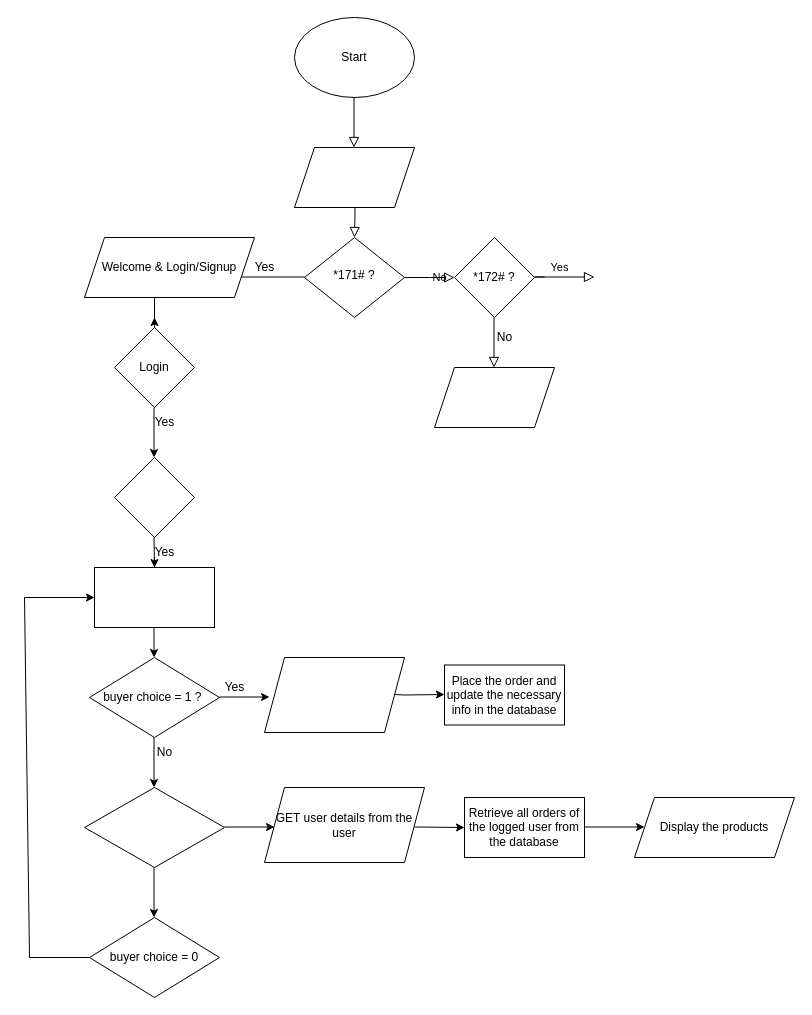
This 812x1015 diagram has some shape labels left out. Each missing label, with the centre of its shape:
buyer choice = 2 ?: point (154, 827)
Enter USSD code: point (354, 177)
Get product and user details: point (334, 694)
Invalid USSD: point (494, 397)
Is Buyer?: point (154, 497)
Retrieve Products from database and display on frontend: point (154, 597)
